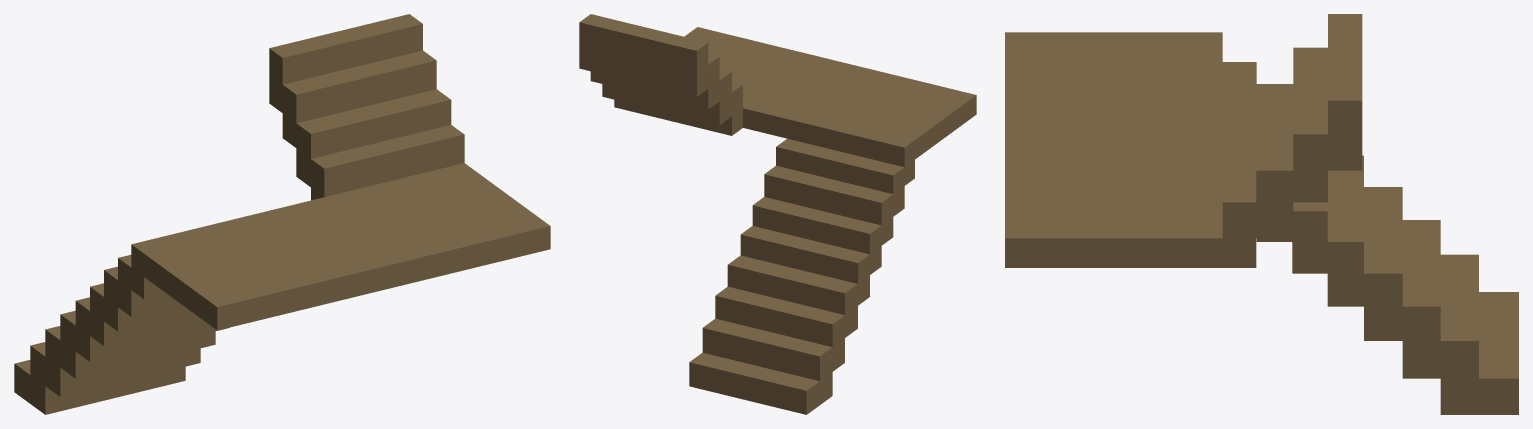
Rendered from Stairs.fbx.
The picture shows the model from 3 angles, left to right: view 1: azimuth 30°, elevation 25°; view 2: azimuth 150°, elevation 25°; view 3: azimuth 270°, elevation 25°; orthographic projection. The views are drawn at different scales.
Visible parts, largest first — view 1: LobbyStairs; view 2: LobbyStairs; view 3: LobbyStairs.
Part boxes in pixels (<box>): LobbyStairs: <box>14,14,550,414</box>; LobbyStairs: <box>579,14,976,414</box>; LobbyStairs: <box>1005,14,1518,414</box>.
Bounding box in the file's own units: 6.65 × 6.53 × 7.01.
